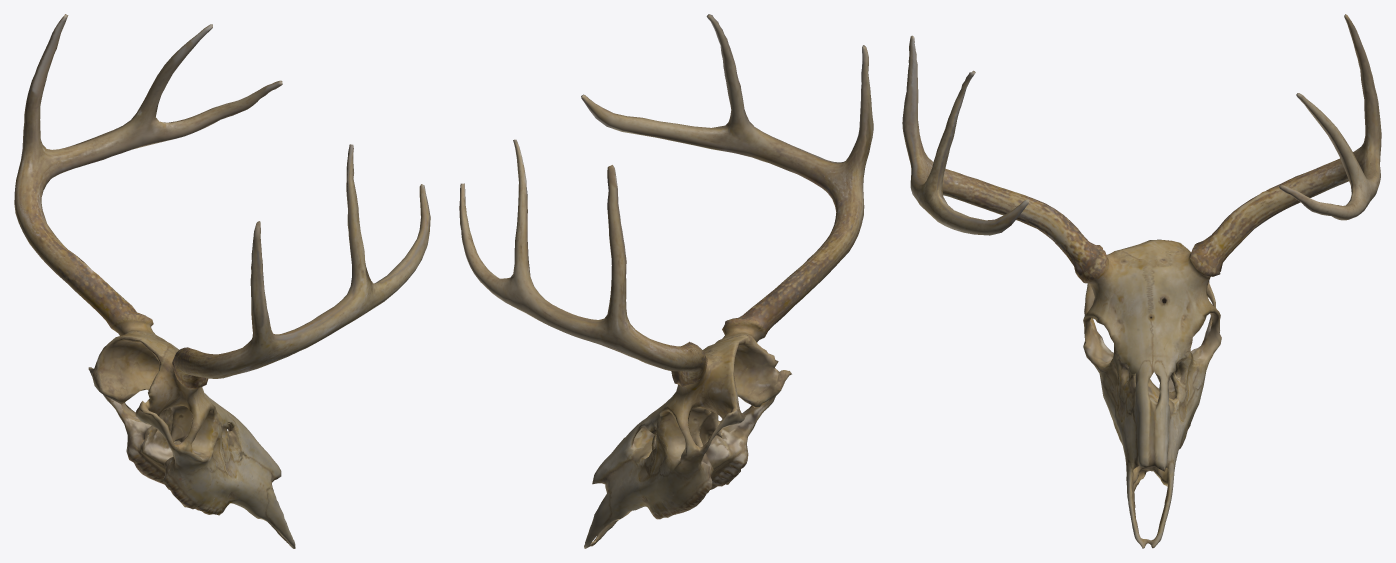
The model's file is Prop_DeerSkull.fbx.
3 views of the same model, side by side, from view 1: azimuth 30°, elevation 25°; view 2: azimuth 150°, elevation 25°; view 3: azimuth 270°, elevation 25° (orthographic). The views are drawn at different scales.
Visible parts, largest first — view 1: Prop_DeerSkull; view 2: Prop_DeerSkull; view 3: Prop_DeerSkull.
Boxes of the visible parts, x1=… form: Prop_DeerSkull: x1=14, y1=14, x2=430, y2=548; Prop_DeerSkull: x1=459, y1=14, x2=873, y2=548; Prop_DeerSkull: x1=902, y1=14, x2=1381, y2=548.
Bounding box in the file's own units: 25.76 × 47.99 × 43.85.
